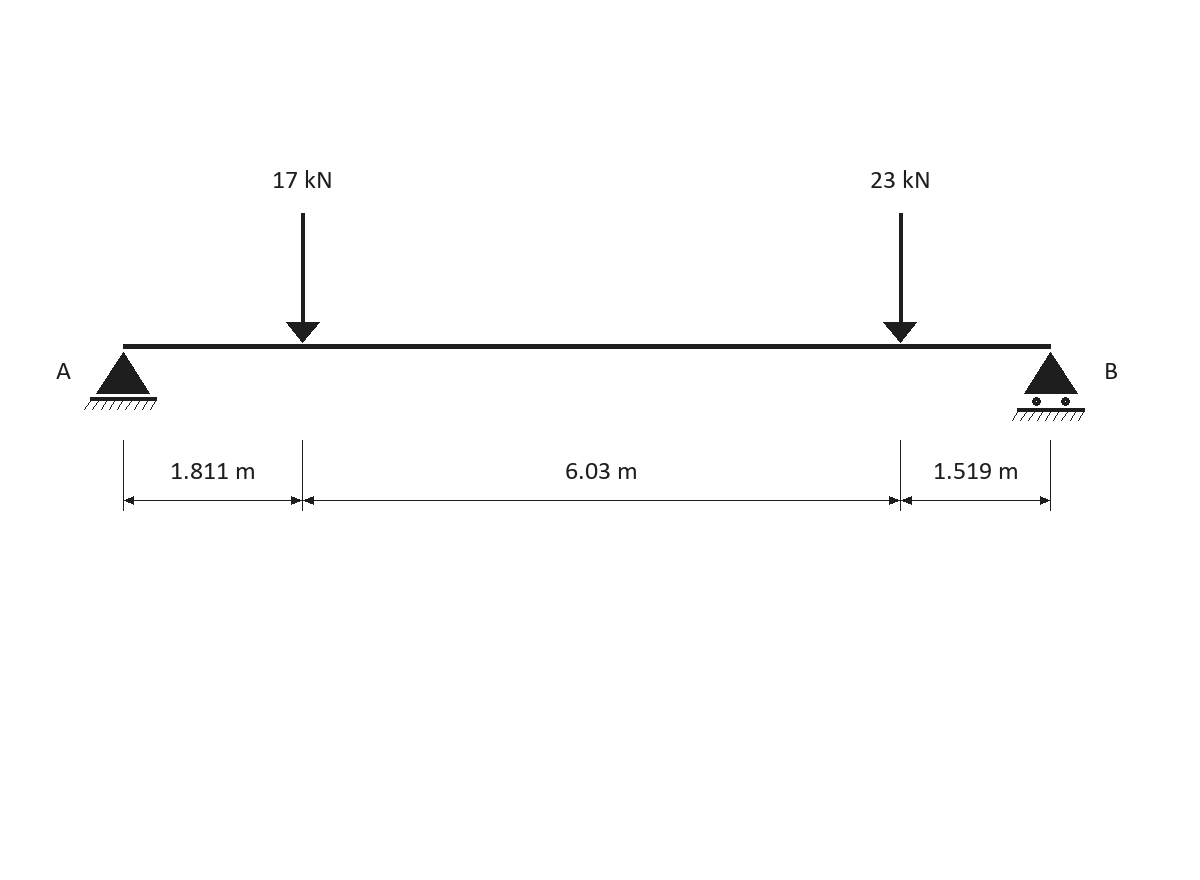pin_support: (84, 352, 157, 410)
point_load: (286, 213, 320, 343), (883, 213, 917, 343)
roller_support: (1012, 352, 1085, 421)
